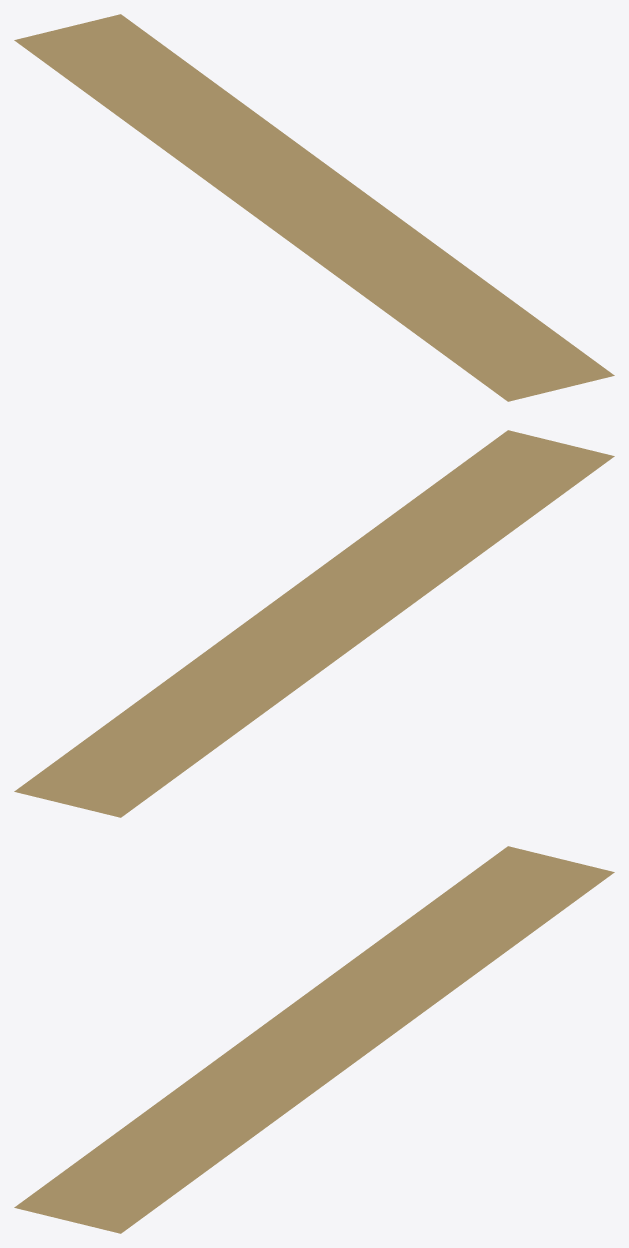
The model's file is southroad.glb.
The picture shows the model from 3 angles, top to bottom: view 1: azimuth 30°, elevation 25°; view 2: azimuth 150°, elevation 25°; view 3: azimuth 330°, elevation 25°; orthographic projection.
Visible parts, largest first — view 1: southroad; view 2: southroad; view 3: southroad.
Part boxes in pixels (x1,y1,x2,y2): southroad: (14, 14, 614, 401); southroad: (14, 430, 614, 817); southroad: (14, 846, 614, 1233).
Bounding box in the file's own units: 6 × 0 × 48.
